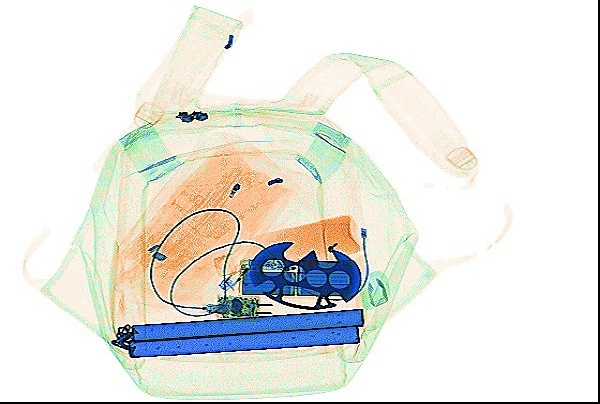lighter: (217, 238, 272, 292)
